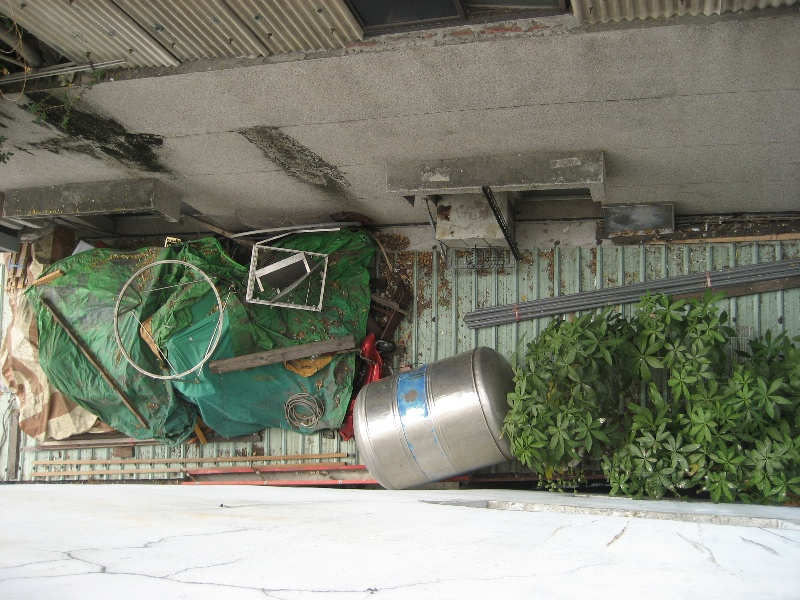plastic_bag: (1, 227, 369, 449)
water_tower: (354, 345, 516, 489)
